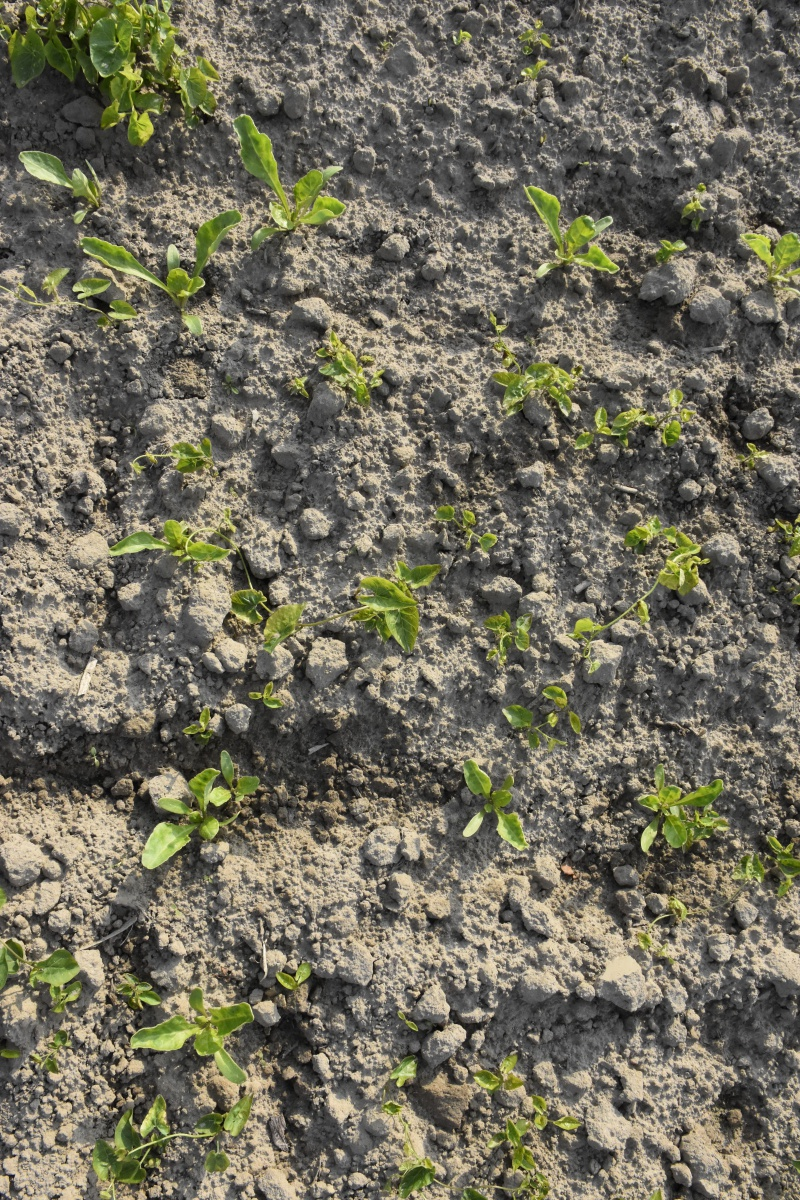field bindweed: (1, 1, 227, 131), (237, 561, 438, 659), (577, 515, 716, 646), (474, 1052, 580, 1200), (1, 930, 81, 1076), (494, 344, 576, 421), (134, 438, 230, 498), (338, 336, 390, 414)
sugar beet: (81, 222, 250, 339), (236, 115, 354, 256), (131, 991, 260, 1084), (137, 769, 236, 874), (631, 772, 726, 874), (528, 191, 624, 282), (453, 758, 528, 856), (16, 139, 110, 211), (107, 516, 227, 571), (736, 216, 800, 289)
